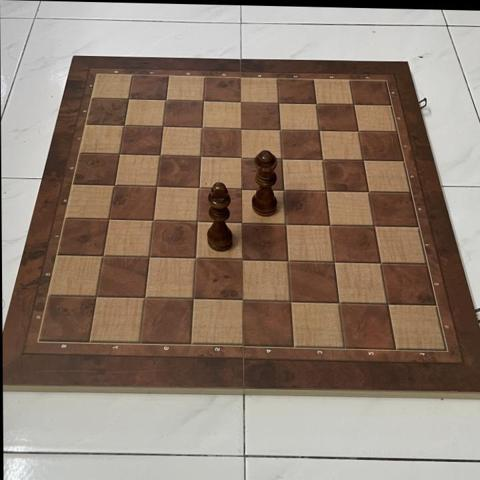xcorner: (233, 93, 250, 110), (271, 94, 288, 111), (308, 94, 325, 111), (346, 95, 363, 112), (116, 117, 133, 134), (155, 118, 172, 135), (194, 119, 211, 136), (233, 120, 250, 137), (272, 120, 289, 137), (311, 121, 328, 138), (350, 122, 367, 139), (112, 146, 129, 163), (152, 147, 169, 164), (193, 148, 210, 165), (274, 149, 291, 166), (314, 150, 331, 167), (355, 151, 372, 168), (107, 177, 124, 194), (149, 178, 166, 195), (191, 179, 208, 196), (233, 180, 250, 197), (275, 181, 292, 198), (360, 182, 377, 199), (101, 211, 118, 228), (145, 212, 162, 229), (189, 213, 206, 230), (233, 214, 250, 231), (277, 215, 294, 232), (95, 248, 112, 265), (141, 249, 158, 266), (187, 250, 204, 267), (233, 251, 250, 268), (279, 252, 296, 269), (325, 253, 342, 270), (372, 254, 389, 271), (89, 288, 106, 305), (137, 289, 154, 306), (185, 290, 202, 307), (233, 291, 250, 308), (330, 293, 347, 310), (121, 91, 137, 108), (158, 92, 175, 108), (196, 92, 212, 109), (233, 149, 250, 165), (318, 182, 335, 198), (321, 216, 338, 232), (366, 217, 383, 233), (282, 292, 298, 309), (378, 295, 395, 311)
